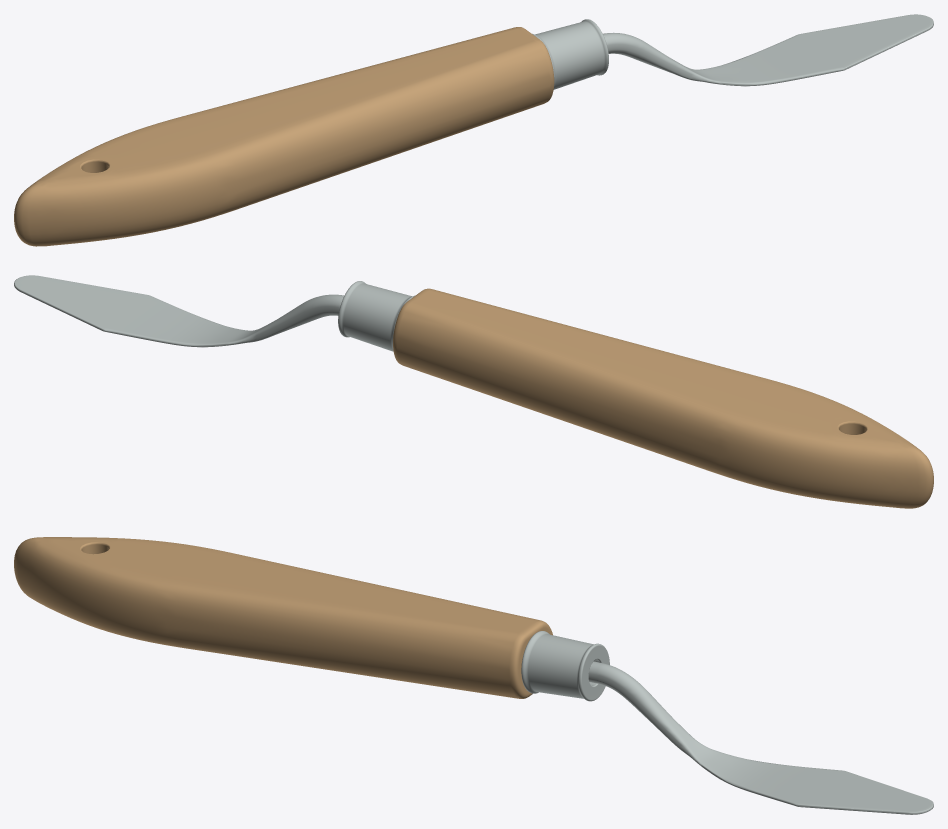
The model's file is paint_supplies_palletknife_a04.glb.
The picture shows the model from 3 angles, top to bottom: view 1: azimuth 30°, elevation 25°; view 2: azimuth 150°, elevation 25°; view 3: azimuth 330°, elevation 25°; orthographic projection.
Bounding box in the file's own units: 0.1554 × 0.0152 × 0.0185.
